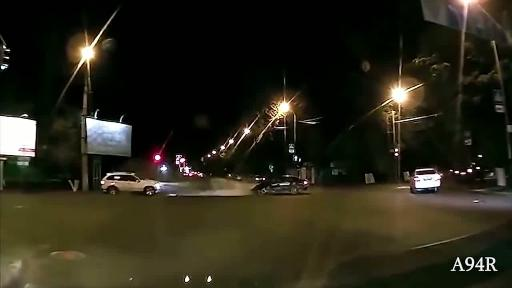CAR: (100, 166, 172, 200), (256, 173, 314, 197), (410, 167, 443, 196)
